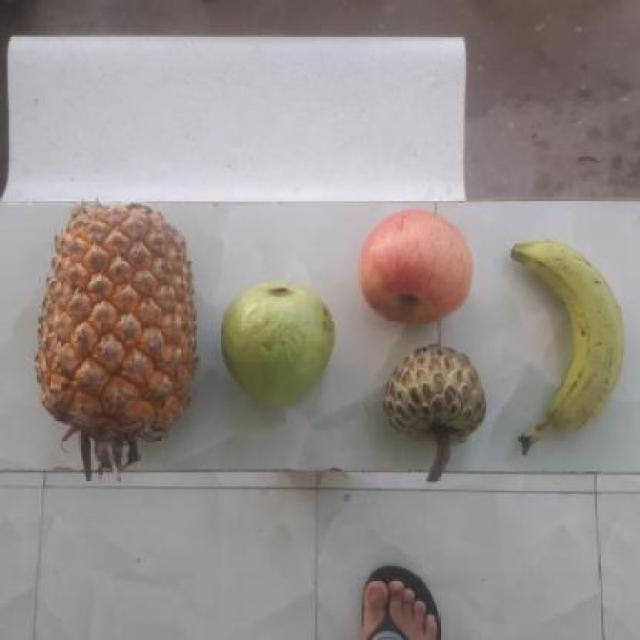apple: (351, 211, 477, 326)
banana: (506, 240, 620, 445)
guava: (216, 281, 335, 407)
pineapple: (35, 208, 190, 442)
sugar apple: (378, 344, 487, 465)
